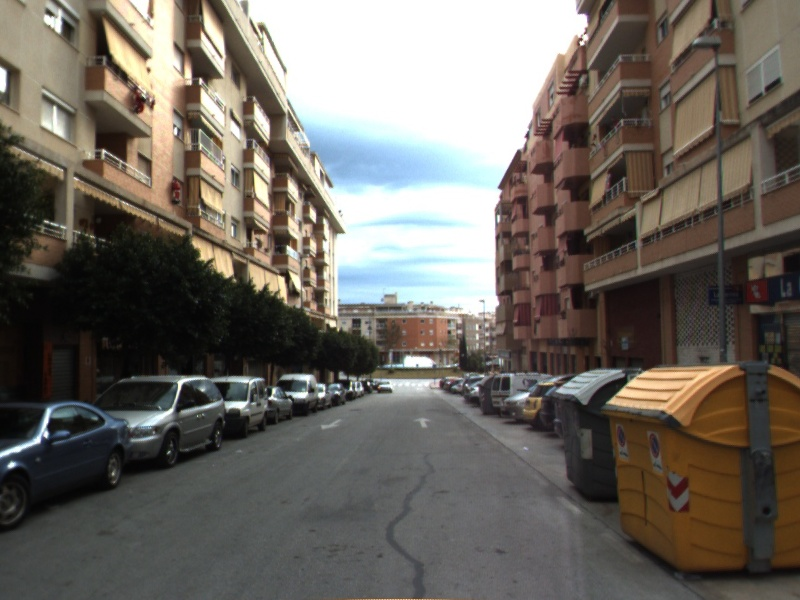STRAIGHT: (412, 415, 433, 430)
